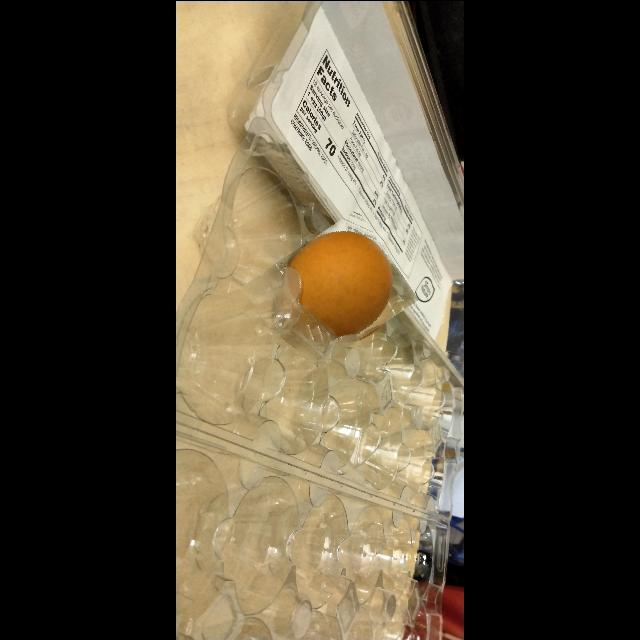Egg: (251, 223, 409, 363)
